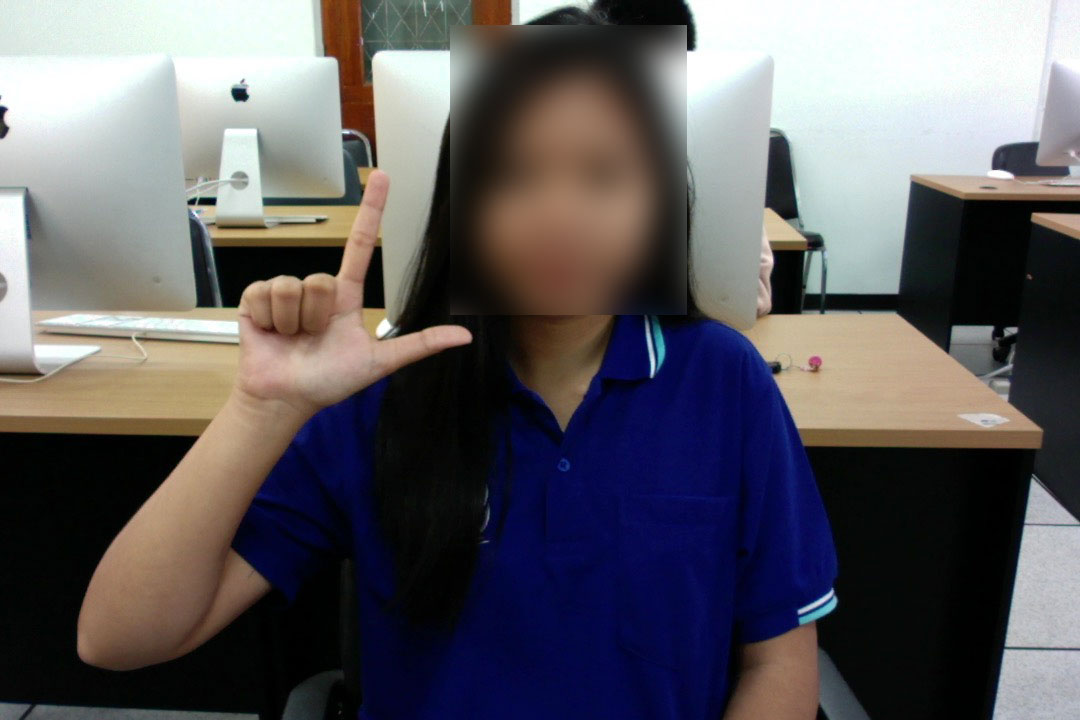lor: (196, 144, 483, 420)
